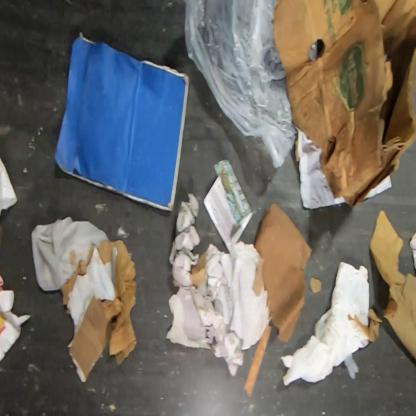cardboard: (273, 0, 416, 207), (50, 29, 190, 214), (190, 204, 312, 394), (60, 240, 138, 383), (347, 210, 416, 361), (309, 276, 322, 293)
soft_plastic: (183, 0, 298, 170)
